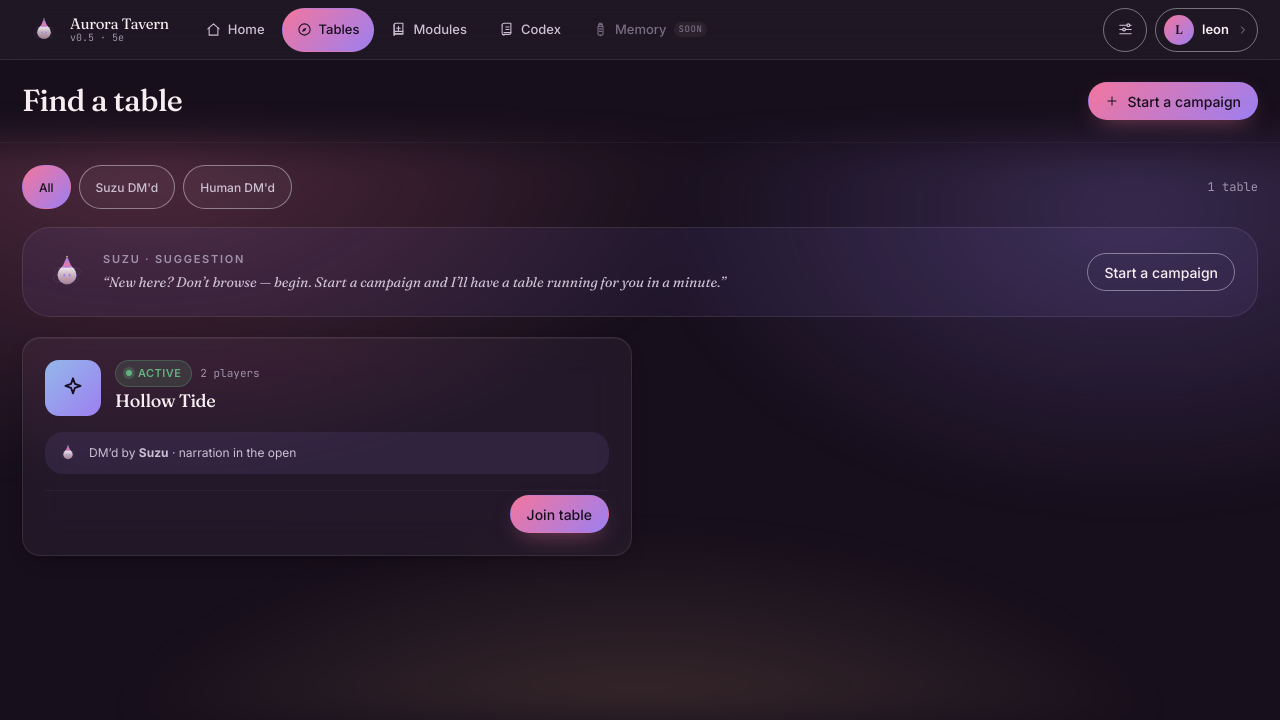
JOIN-REASONS: an unmapped/opaque failure still gets honest fallback copy
The width and height of the screenshot is (1280, 720).
Step 1. Click the button with aria-label "join table: hollow tide" → (559, 514), box [510,495,609,533]
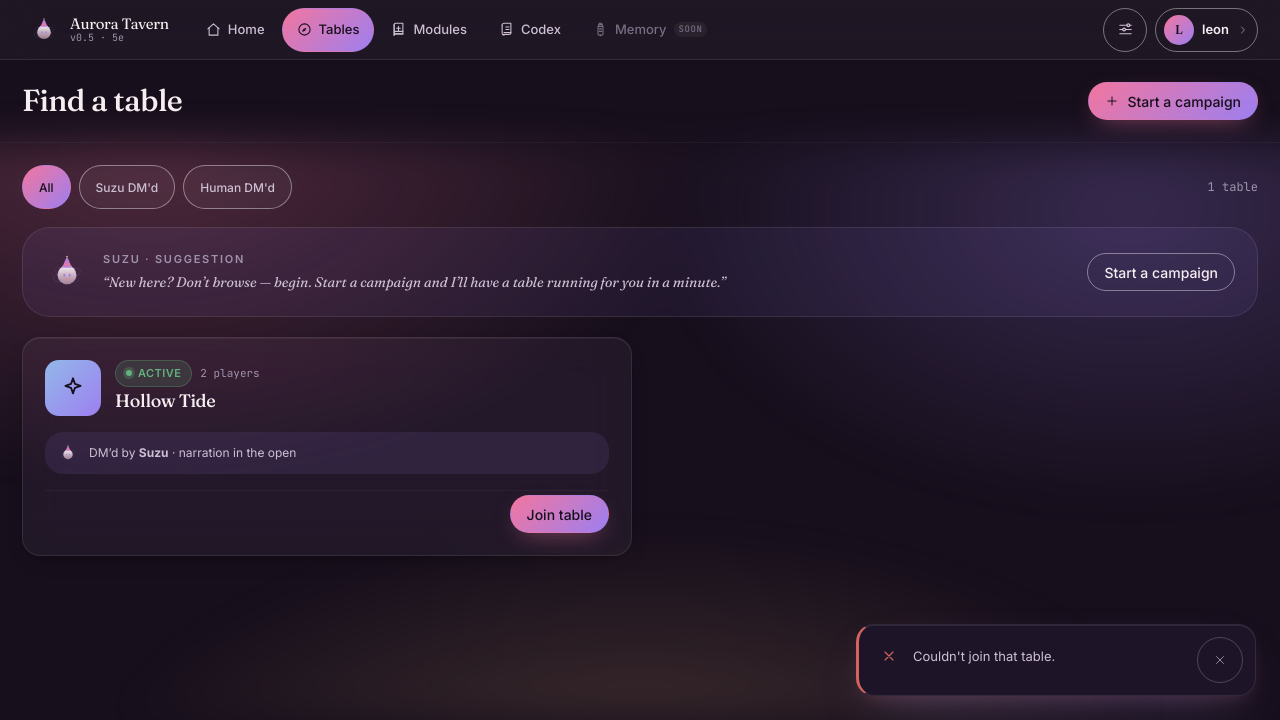
Expected: the text "Couldn't join that table." is shown, [913,648,1055,664]
